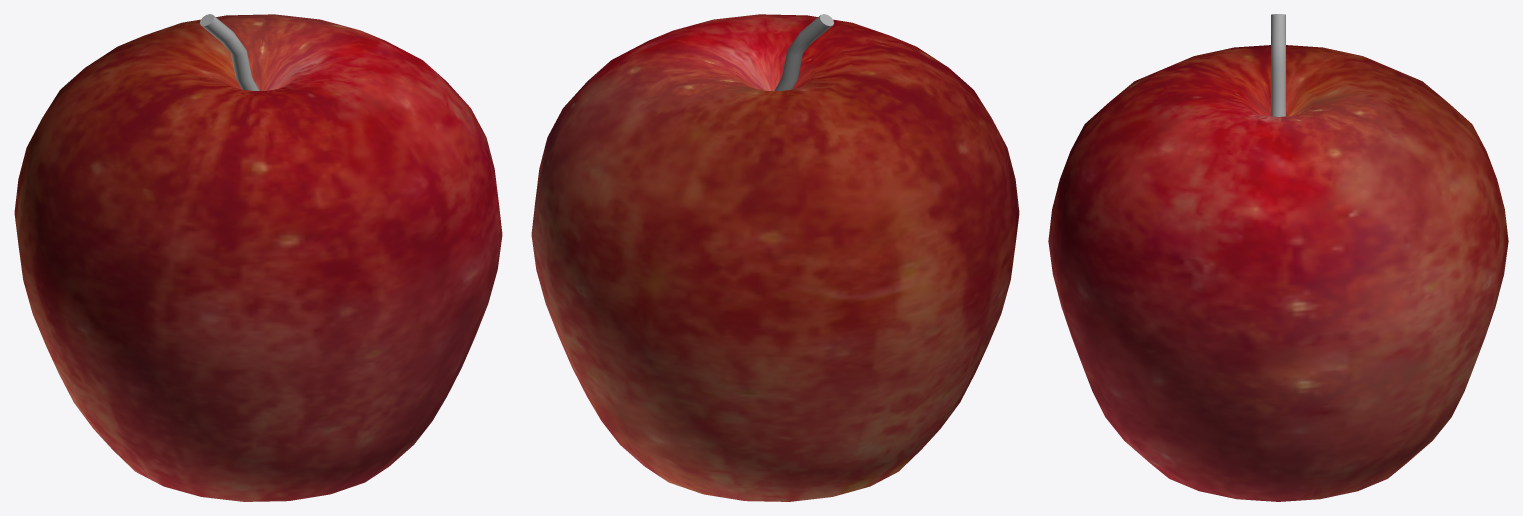
File: Apple.fbx
3 views of the same model, side by side, from view 1: azimuth 30°, elevation 25°; view 2: azimuth 150°, elevation 25°; view 3: azimuth 270°, elevation 25° (orthographic). The views are drawn at different scales.
Visible parts, largest first — view 1: pSphere1, pCylinder1; view 2: pSphere1, pCylinder1; view 3: pSphere1, pCylinder1.
Part boxes in pixels (left/top/right/bottom): pSphere1: left=14, top=14, right=502, bottom=501; pCylinder1: left=200, top=14, right=259, bottom=90; pSphere1: left=531, top=14, right=1019, bottom=501; pCylinder1: left=774, top=14, right=833, bottom=90; pSphere1: left=1048, top=45, right=1508, bottom=501; pCylinder1: left=1271, top=14, right=1285, bottom=116.
Bounding box in the file's own units: 10.91 × 11.16 × 10.91.
2 materials, 1 textured.
